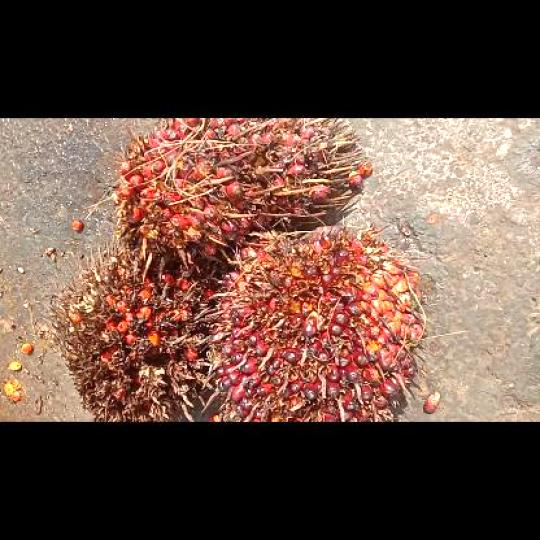masak: (202, 225, 426, 421), (114, 118, 364, 269)
terlalu masak: (43, 242, 212, 420)
